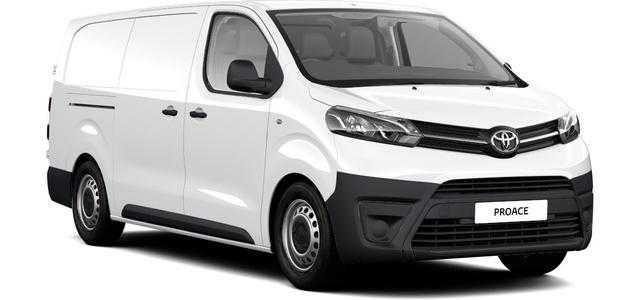car: (41, 6, 595, 285)
